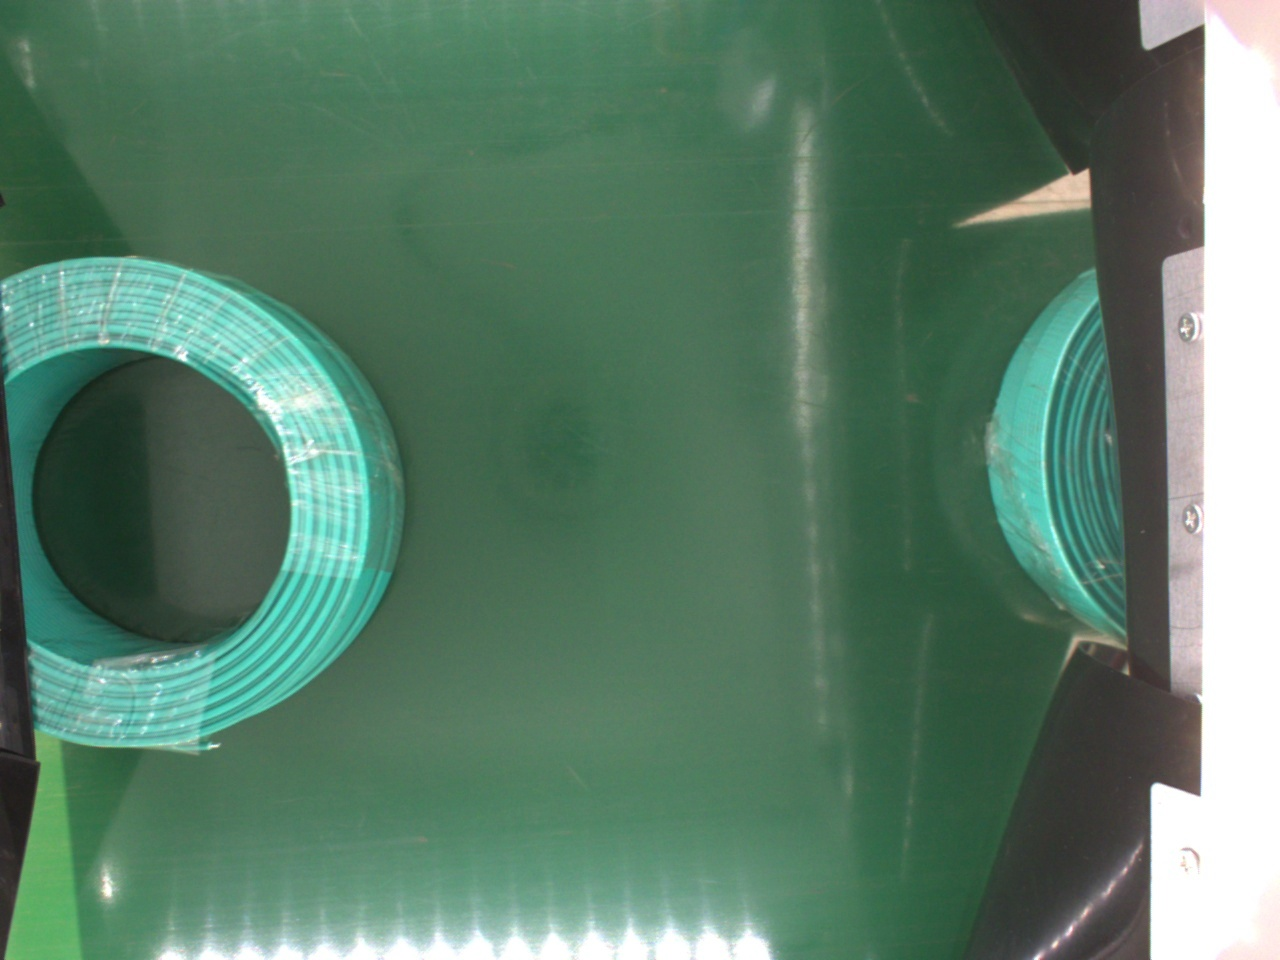green: (5, 255, 396, 755), (984, 266, 1136, 637)
